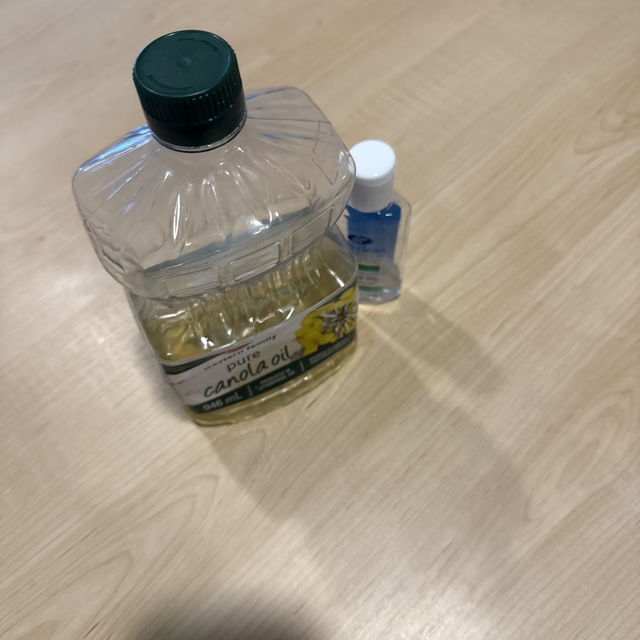Canola Oil: (67, 28, 362, 453), (336, 134, 438, 342)
